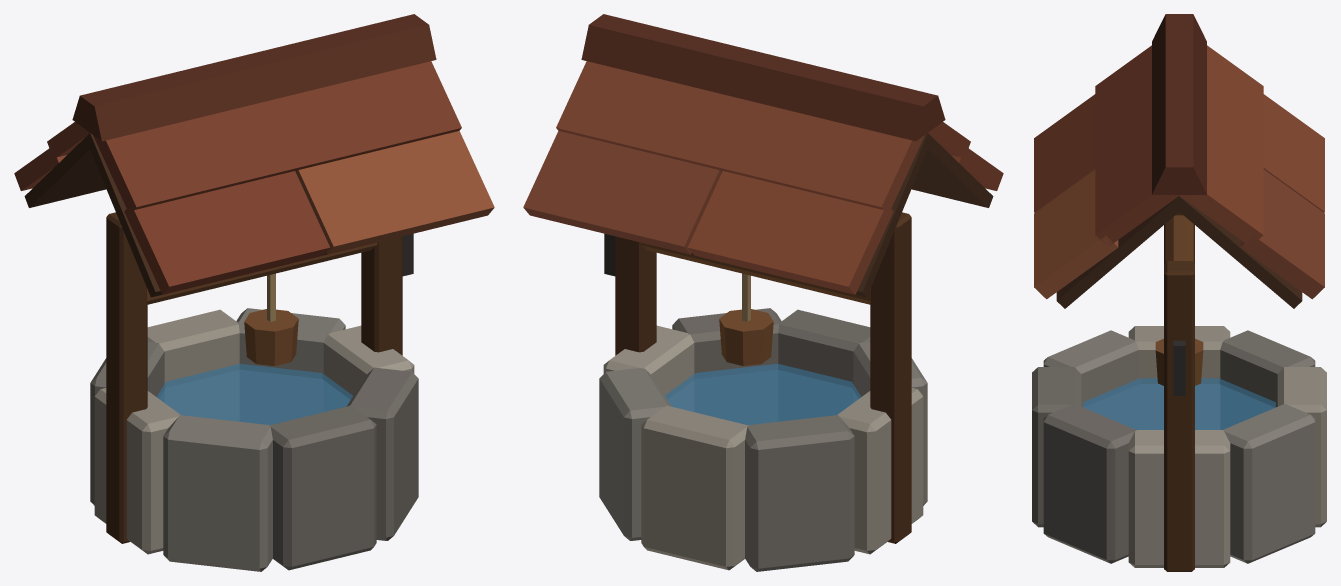
Rendered from Well.glb.
3 views of the same model, side by side, from view 1: azimuth 30°, elevation 25°; view 2: azimuth 150°, elevation 25°; view 3: azimuth 270°, elevation 25° (orthographic). The views are drawn at different scales.
Visible parts, largest first — view 1: Body, Roof, WellWater; view 2: Body, Roof, WellWater; view 3: Body, Roof, WellWater.
Part boxes in pixels (left/top/right/bottom): Body: left=90, top=212, right=418, bottom=571; Roof: left=14, top=14, right=494, bottom=297; WellWater: left=156, top=363, right=352, bottom=425; Body: left=599, top=212, right=927, bottom=571; Roof: left=523, top=14, right=1003, bottom=297; WellWater: left=665, top=363, right=861, bottom=425; Body: left=1032, top=212, right=1326, bottom=571; Roof: left=1034, top=14, right=1324, bottom=308; WellWater: left=1083, top=378, right=1275, bottom=429.
Size of what is drawn, in the model's own units: 5.9 by 7.5 by 4.8.
